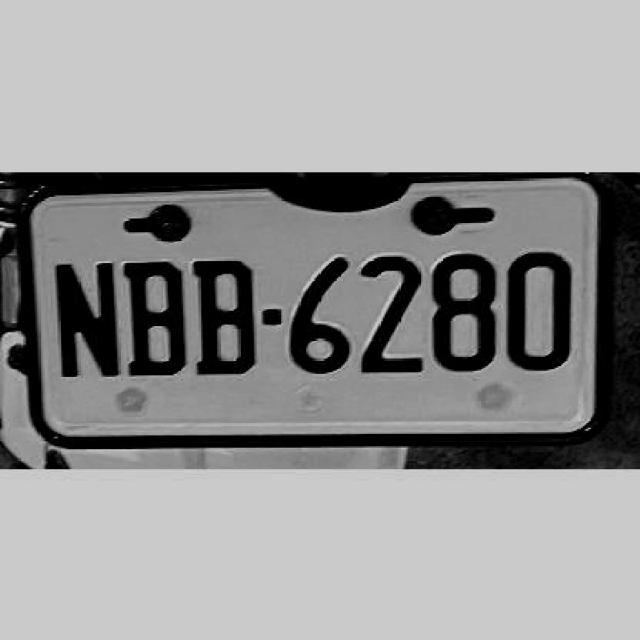-: (262, 306, 280, 325)
0: (503, 248, 572, 372)
2: (358, 247, 424, 376)
6: (286, 249, 351, 377)
8: (430, 244, 496, 374)
B: (194, 252, 260, 380), (121, 257, 188, 383)
N: (49, 257, 120, 380)
